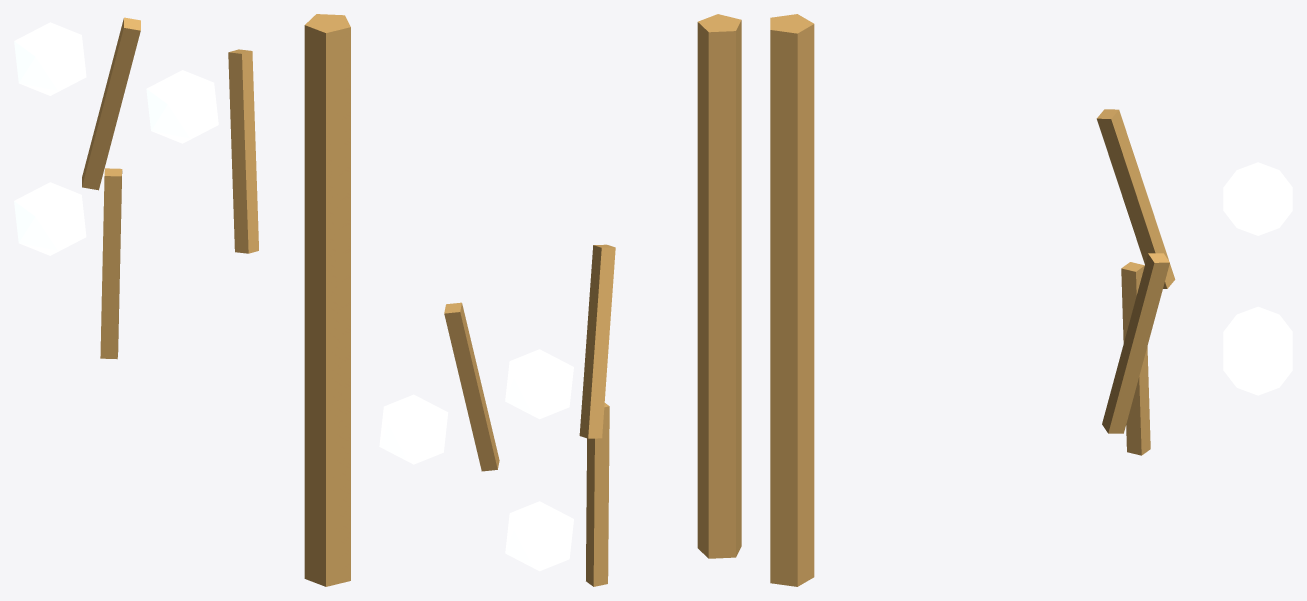
Rendered from Prop_NeuralTree.fbx.
3 views of the same model, side by side, from view 1: azimuth 30°, elevation 25°; view 2: azimuth 150°, elevation 25°; view 3: azimuth 270°, elevation 25° (orthographic). The views are drawn at different scales.
Parts seen in each view (by area): view 1: Prop_NeuralTree_trunk, Prop_NeuralTree_branch_0, Prop_NeuralTree_tip_1, Prop_NeuralTree_tip_0, Prop_NeuralTree_tip_2, Prop_NeuralTree_branch_1, Prop_NeuralTree_branch_2; view 2: Prop_NeuralTree_trunk, Prop_NeuralTree_branch_1, Prop_NeuralTree_tip_1, Prop_NeuralTree_tip_2, Prop_NeuralTree_tip_0, Prop_NeuralTree_branch_2, Prop_NeuralTree_branch_0; view 3: Prop_NeuralTree_trunk, Prop_NeuralTree_branch_0, Prop_NeuralTree_tip_1, Prop_NeuralTree_tip_0, Prop_NeuralTree_branch_1, Prop_NeuralTree_branch_2, Prop_NeuralTree_tip_2.
Boxes of the visible parts, x1,y1,x2,y2 form: Prop_NeuralTree_trunk: (304, 14, 350, 586); Prop_NeuralTree_branch_0: (228, 49, 258, 253); Prop_NeuralTree_tip_1: (14, 22, 86, 95); Prop_NeuralTree_tip_0: (146, 70, 218, 143); Prop_NeuralTree_tip_2: (14, 182, 86, 255); Prop_NeuralTree_branch_1: (82, 17, 140, 190); Prop_NeuralTree_branch_2: (100, 168, 122, 359); Prop_NeuralTree_trunk: (697, 14, 741, 558); Prop_NeuralTree_branch_1: (579, 244, 615, 438); Prop_NeuralTree_tip_1: (505, 349, 573, 419); Prop_NeuralTree_tip_2: (505, 501, 573, 571); Prop_NeuralTree_tip_0: (379, 394, 448, 464); Prop_NeuralTree_branch_2: (586, 403, 609, 586); Prop_NeuralTree_branch_0: (444, 302, 499, 471); Prop_NeuralTree_trunk: (770, 14, 814, 586); Prop_NeuralTree_branch_0: (1102, 253, 1169, 433); Prop_NeuralTree_tip_1: (1223, 162, 1292, 235); Prop_NeuralTree_tip_0: (1223, 306, 1292, 380); Prop_NeuralTree_branch_1: (1096, 109, 1175, 288); Prop_NeuralTree_branch_2: (1121, 262, 1150, 455); Prop_NeuralTree_tip_2: (1223, 355, 1292, 395).
Bounding box in the file's own units: 0.5541 × 1.5 × 1.28.
